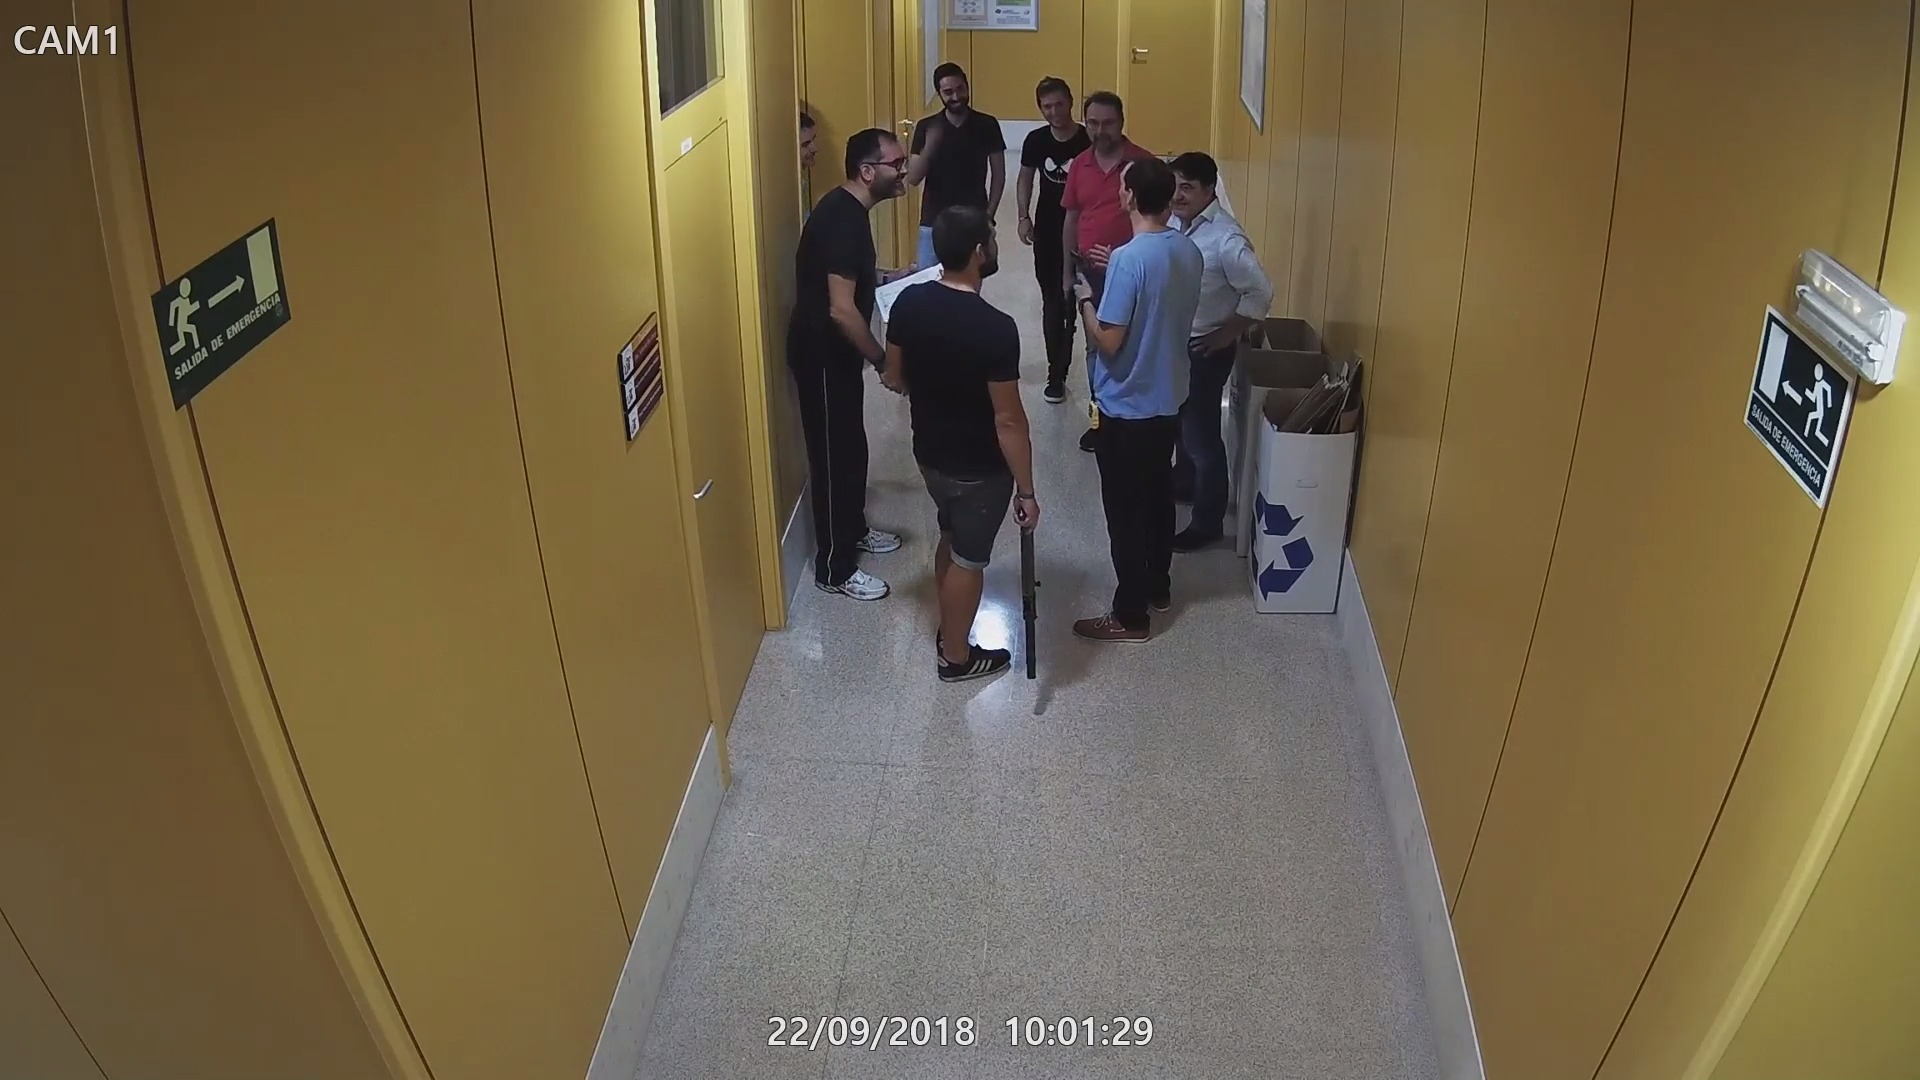Handgun: (1067, 243, 1095, 297)
Short_rifle: (1015, 495, 1043, 687), (1054, 282, 1079, 385)
